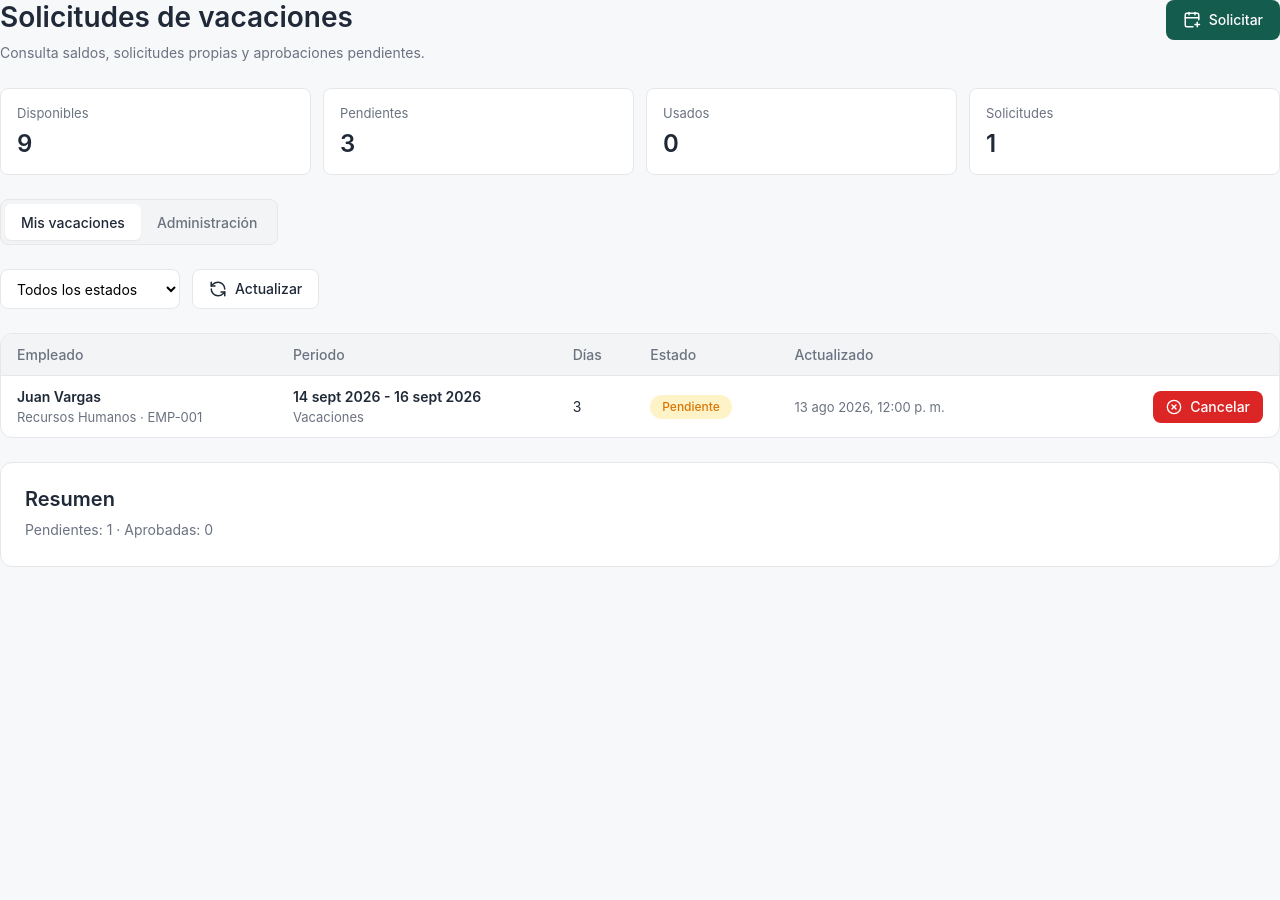
Test: LeaveRequestsPage › shows a clear message when a request was already changed in another session
Click the tab "Administración" at (207, 222), box [141,204,273,240]
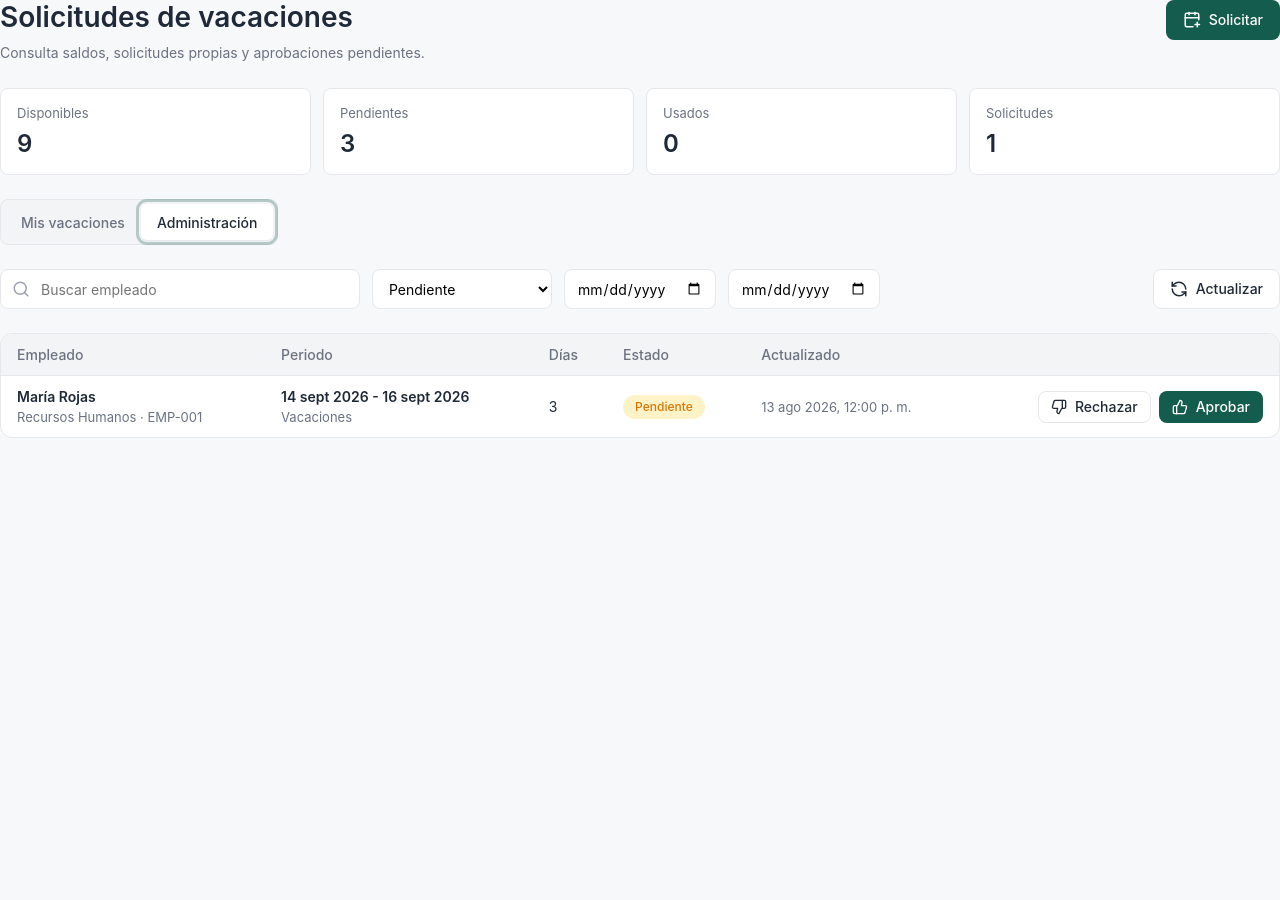
Click the button "Aprobar" at (1211, 407), box [1159,391,1263,423]
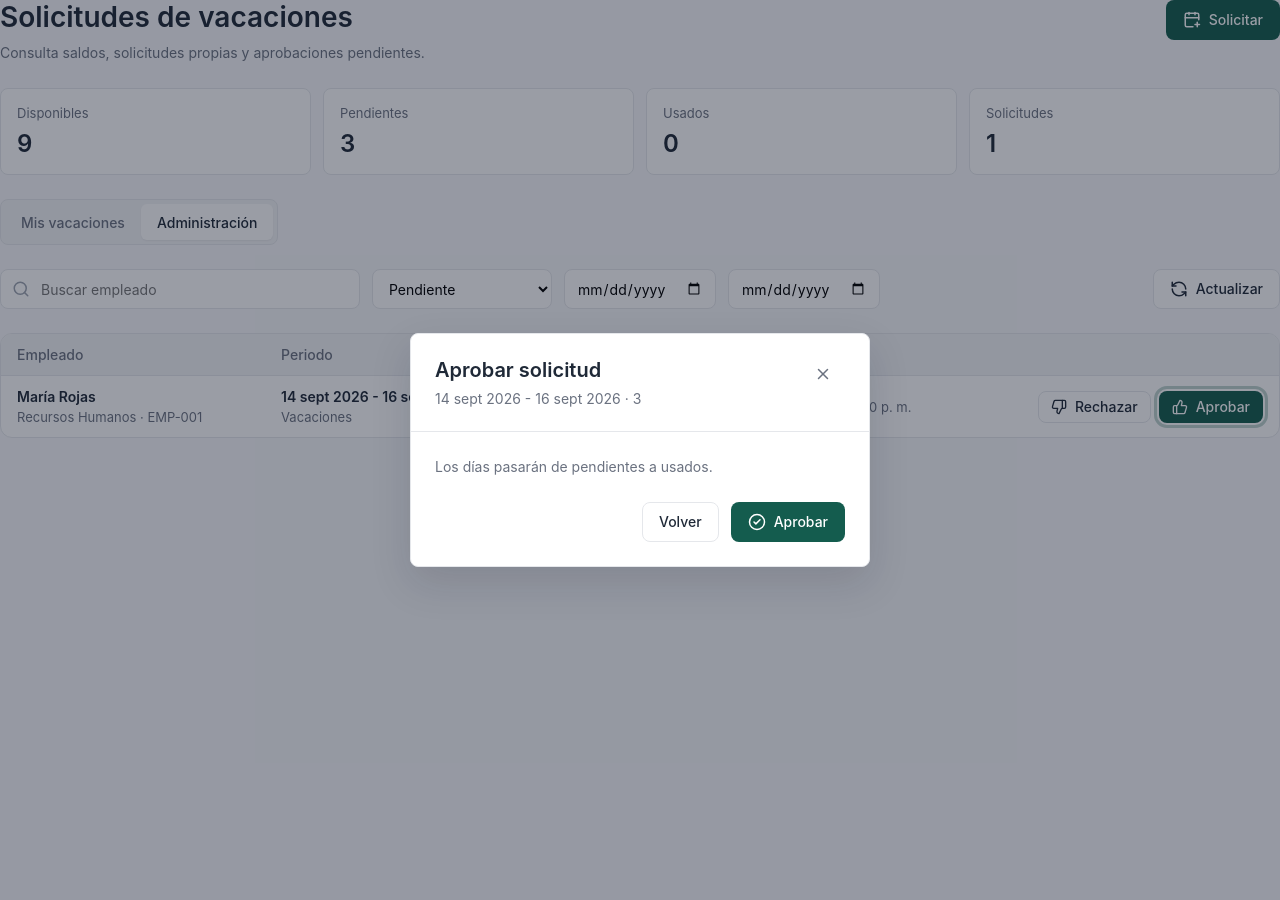
Click the button "Aprobar" at (788, 522), box [731,502,845,542]
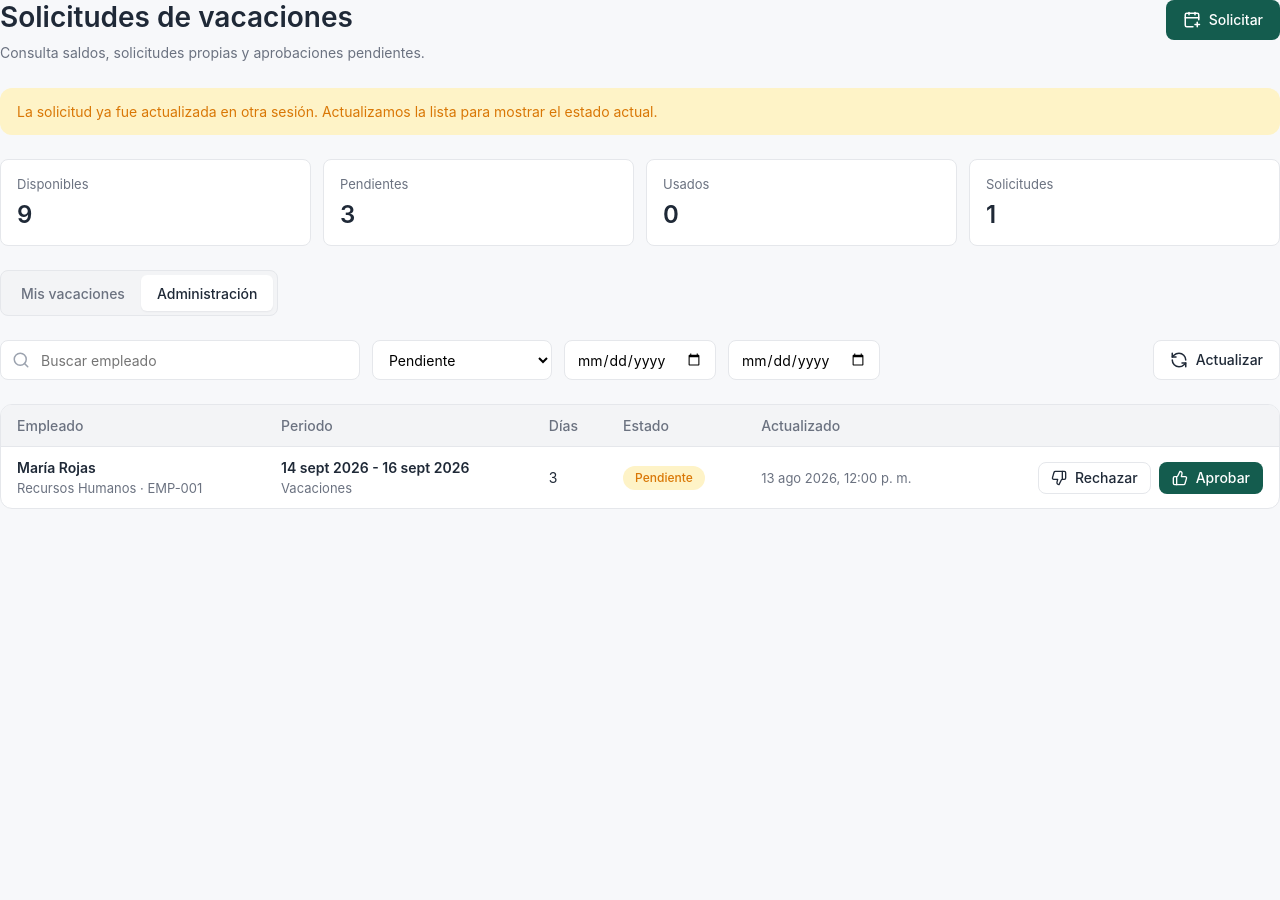
expect the text "La solicitud ya fue actualizada en otra sesión" is shown: met, box [17,103,658,120]
